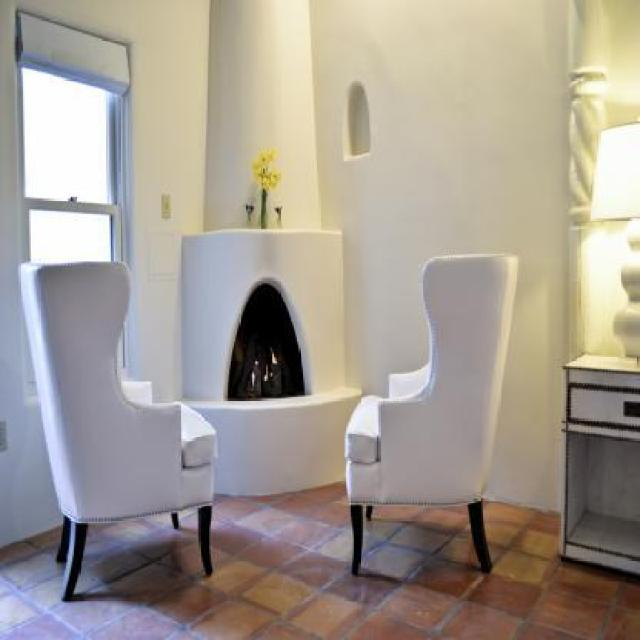Fire: (266, 350, 280, 368)
